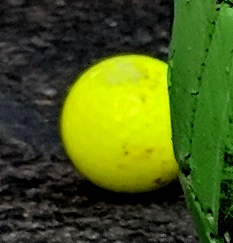ball: (60, 54, 186, 194)
